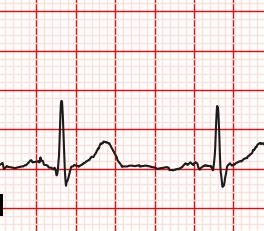LVH: (84, 137, 123, 169)
ST Depression: (207, 159, 234, 189), (51, 162, 76, 190)
